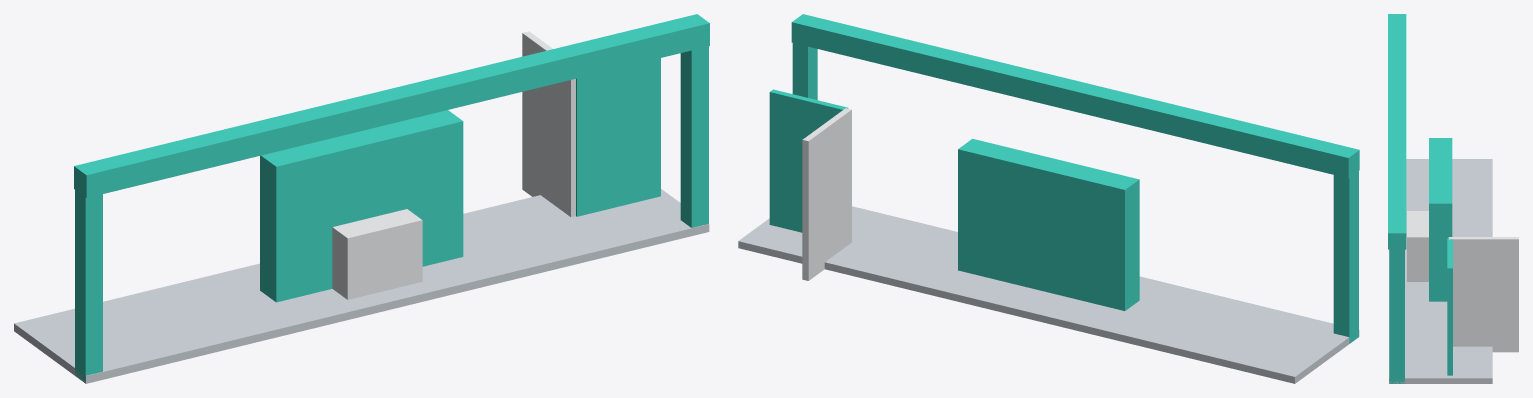
3 views of the same model, side by side, from view 1: azimuth 30°, elevation 25°; view 2: azimuth 150°, elevation 25°; view 3: azimuth 270°, elevation 25° (orthographic). The views are drawn at different scales.
Parts seen in each view (by area): view 1: Exhibition Booth Concept; view 2: Exhibition Booth Concept; view 3: Exhibition Booth Concept.
Boxes of the visible parts, x1,y1,x2,y2 form: Exhibition Booth Concept: (14,14,709,383); Exhibition Booth Concept: (738,14,1359,383); Exhibition Booth Concept: (1388,14,1518,383).
Bounding box in the file's own units: 10 × 3.2 × 2.52.
